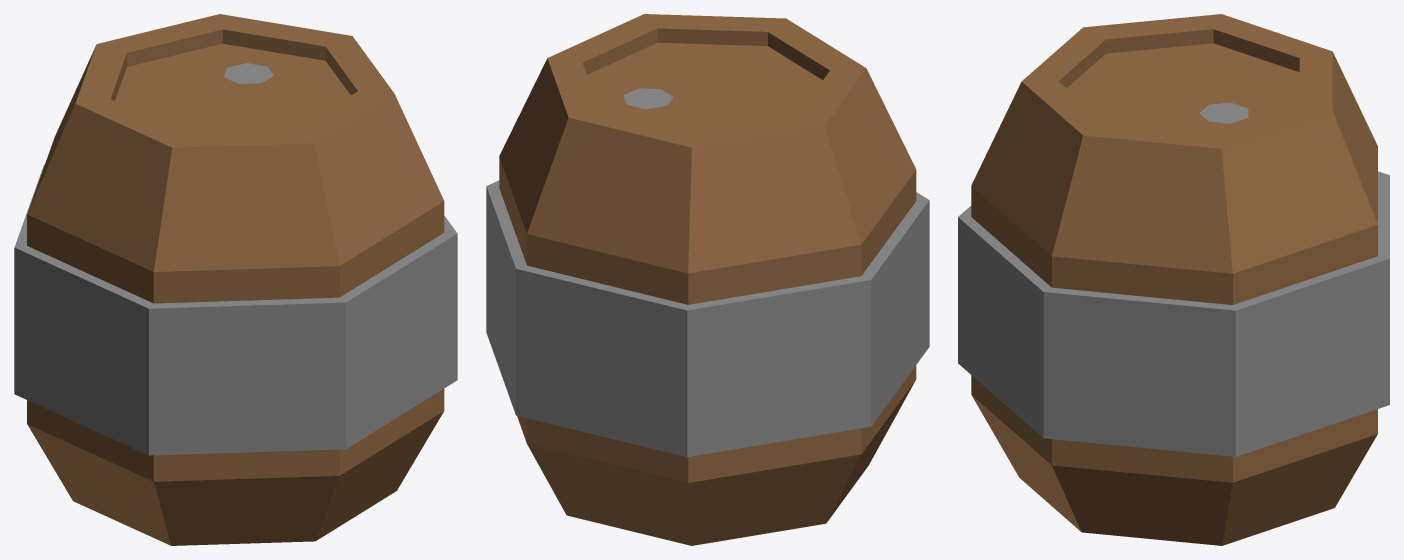
Rendered from barrel_001.glb.
3 renders of one model, left to right at view 1: azimuth 30°, elevation 25°; view 2: azimuth 150°, elevation 25°; view 3: azimuth 270°, elevation 25°, orthographic.
Visible parts, largest first — view 1: barrel.001; view 2: barrel.001; view 3: barrel.001.
Part boxes in pixels (x1=…): barrel.001: x1=14, y1=14, x2=457, y2=545; barrel.001: x1=486, y1=14, x2=929, y2=545; barrel.001: x1=958, y1=14, x2=1389, y2=545.
Size of the model in its own units: 0.8893 by 0.8775 by 0.867.
Materials: 1 (1 with a texture image).
